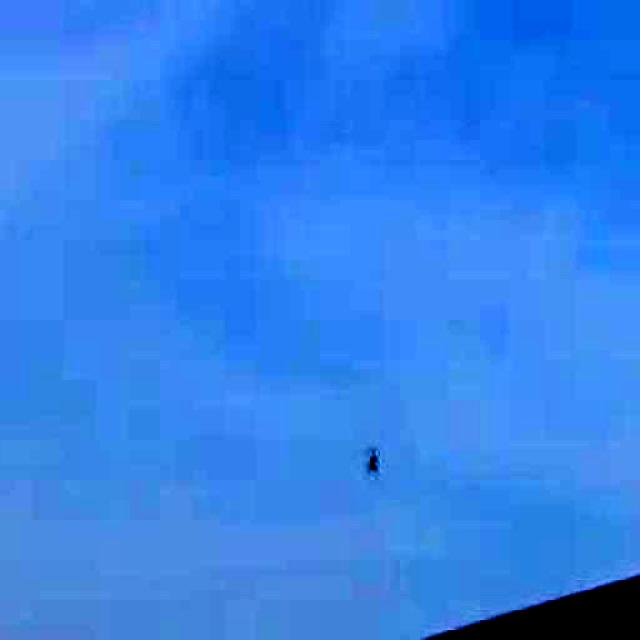drone: (342, 424, 406, 496)
